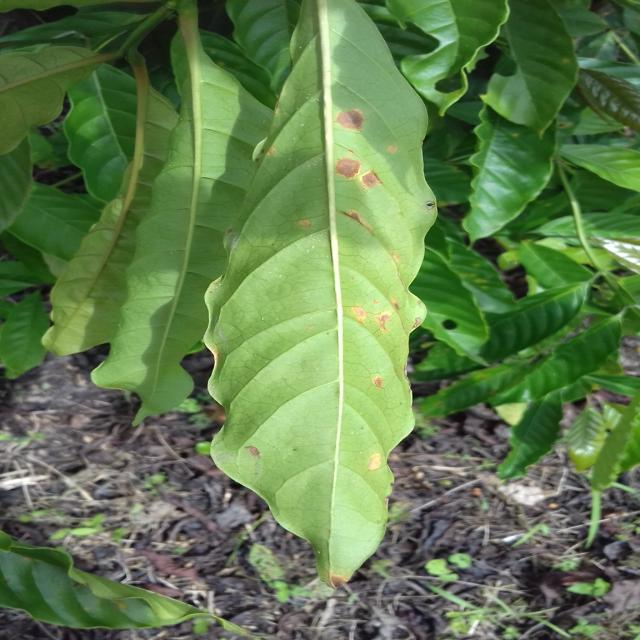Enfermedad-Roya: (198, 2, 448, 583)
